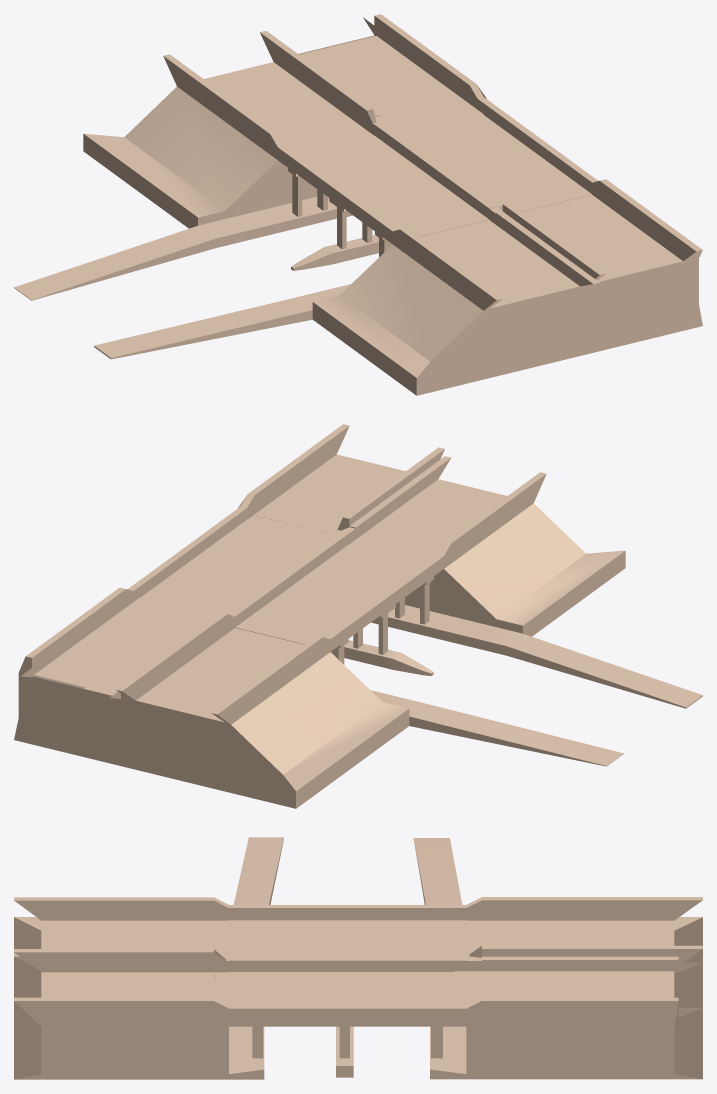
Rendered from transformingbridge.fbx.
The picture shows the model from 3 angles, top to bottom: view 1: azimuth 30°, elevation 25°; view 2: azimuth 150°, elevation 25°; view 3: azimuth 270°, elevation 25°; orthographic projection. The views are drawn at different scales.
Visible parts, largest first — view 1: pasted__pCube5; view 2: pasted__pCube5; view 3: pasted__pCube5.
Part boxes in pixels (x1,y1,x2,y2): pasted__pCube5: (14, 14, 702, 395); pasted__pCube5: (14, 424, 702, 808); pasted__pCube5: (14, 837, 702, 1079).
Bounding box in the file's own units: 5629 × 845 × 6676.
